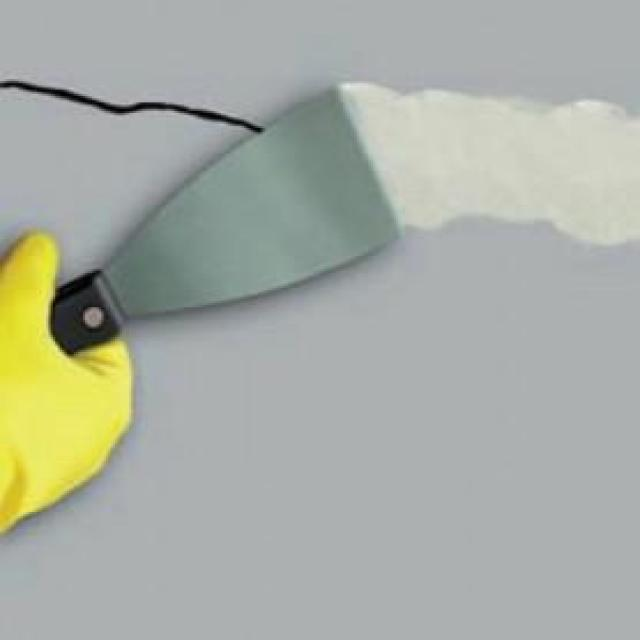crack: (0, 76, 268, 131)
